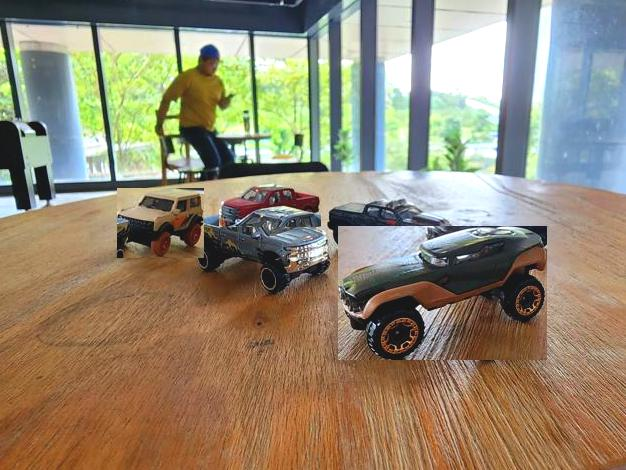toy-car: (338, 226, 547, 360), (191, 206, 330, 293), (327, 198, 458, 248), (117, 188, 204, 258), (218, 183, 320, 227)
